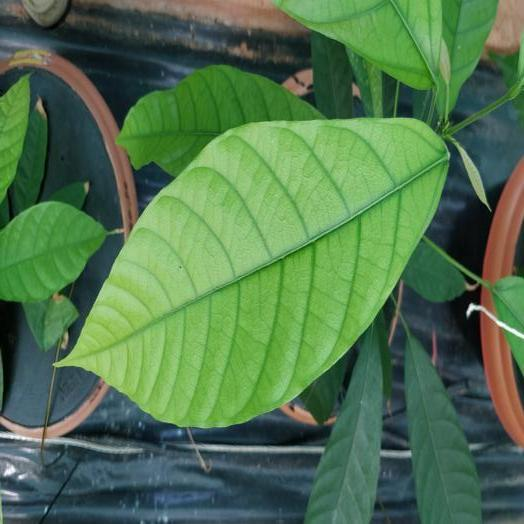Healthy Leaf: (305, 317, 384, 523), (405, 330, 480, 523)
Iron: (59, 118, 448, 427), (117, 65, 323, 176), (0, 201, 106, 301)
